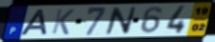4: (164, 4, 187, 35)
6: (139, 6, 164, 35)
7: (86, 6, 108, 37)
A: (18, 8, 49, 36)
K: (50, 8, 76, 36)
N: (103, 6, 138, 36)
